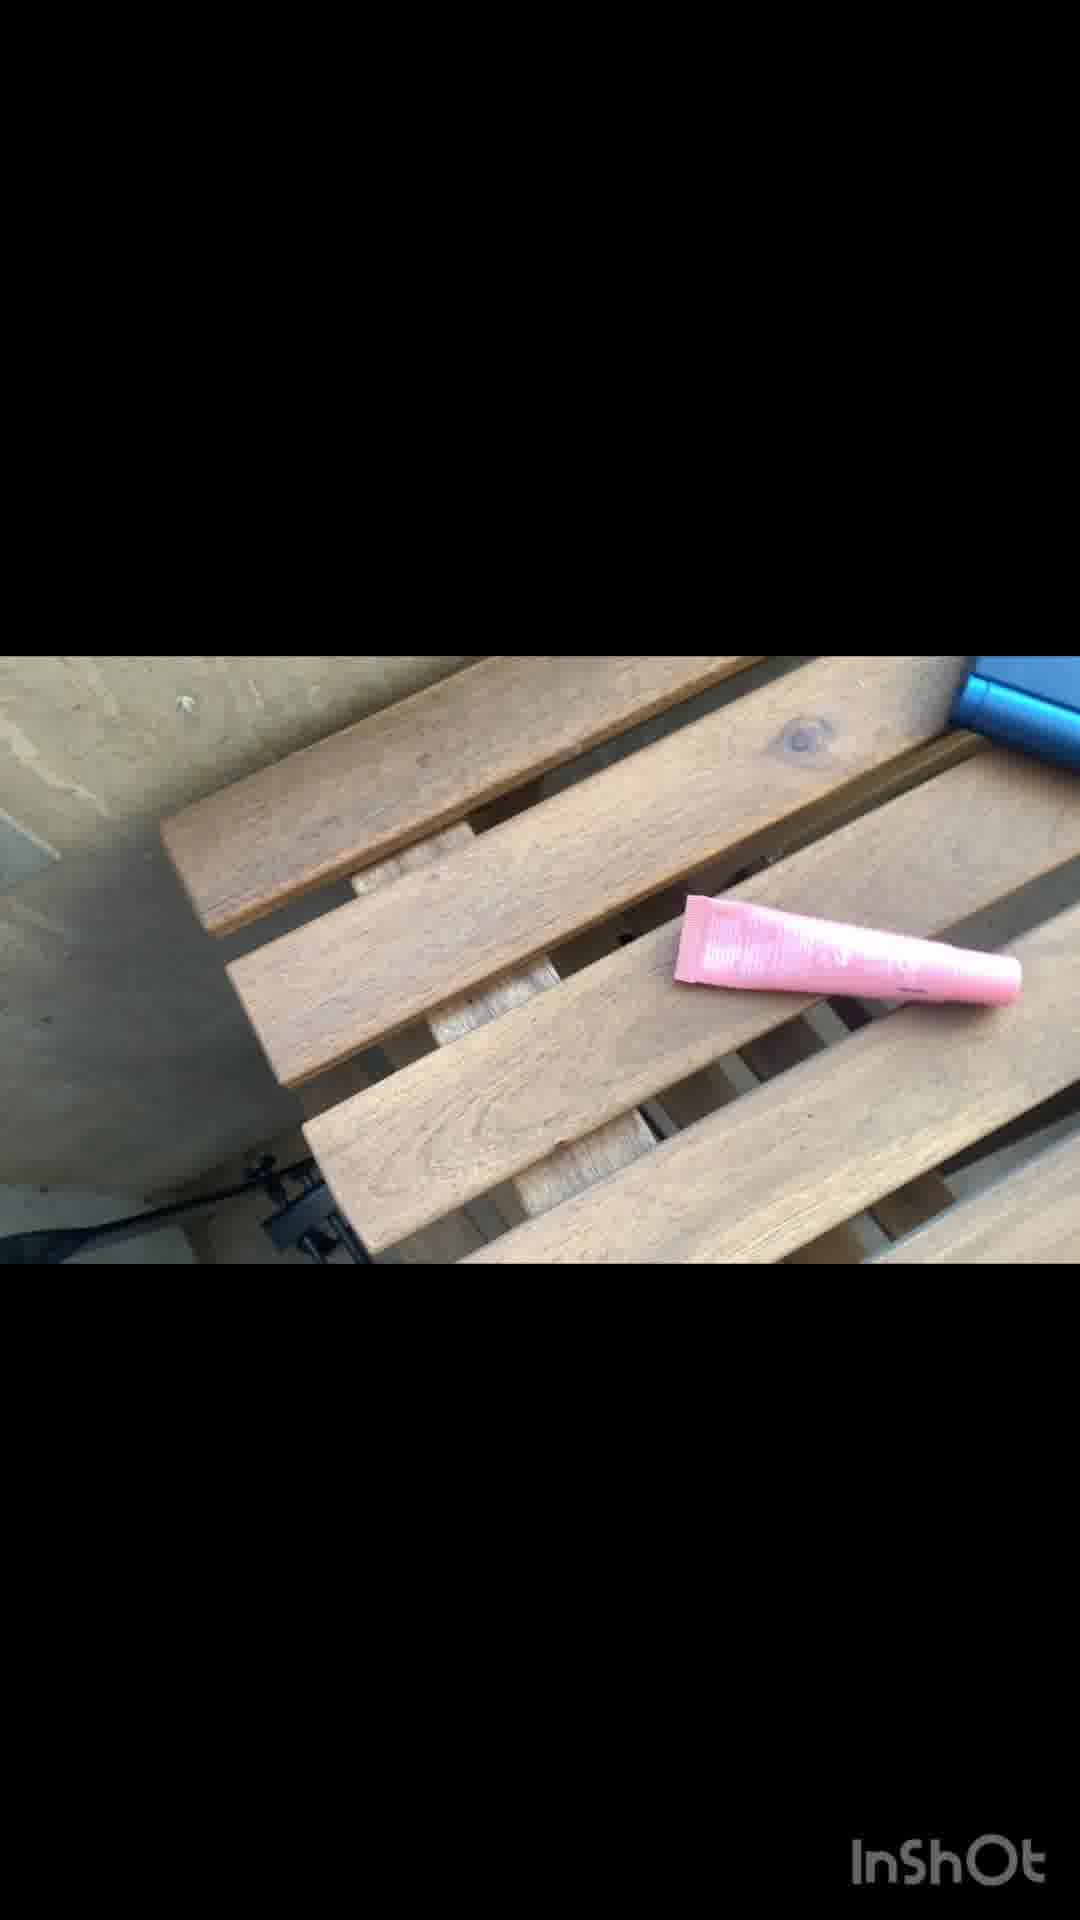glo: (944, 657, 1080, 762)
lip balm: (673, 887, 1021, 1029)
